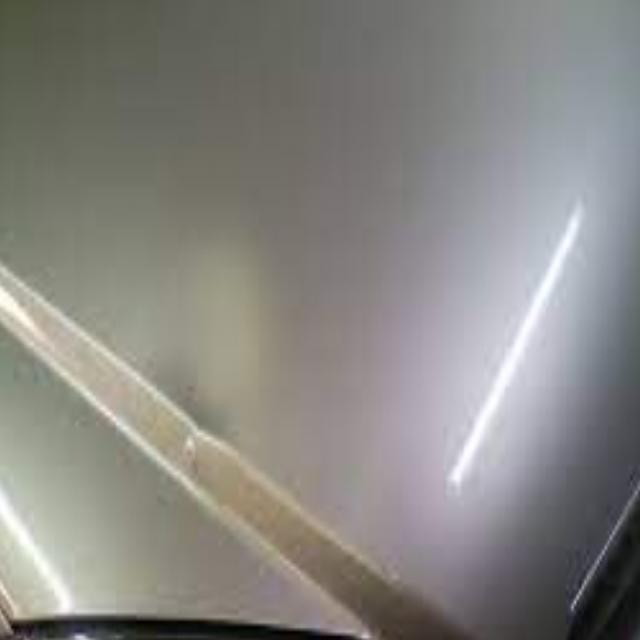dents: (131, 265, 233, 483)
